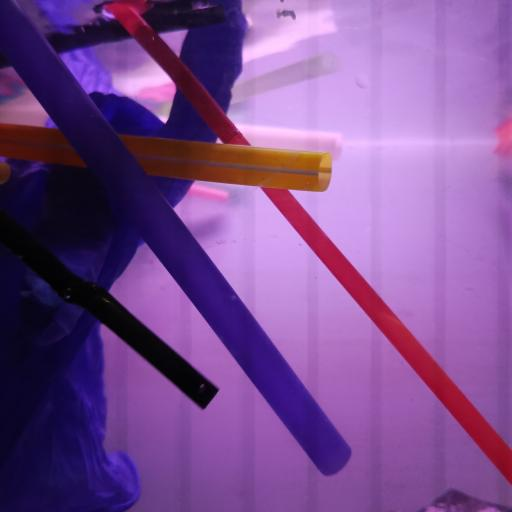glove: (0, 0, 249, 512)
plastic_straw: (106, 2, 512, 488), (0, 0, 352, 479), (0, 207, 221, 411), (1, 120, 332, 193), (0, 0, 230, 71)
